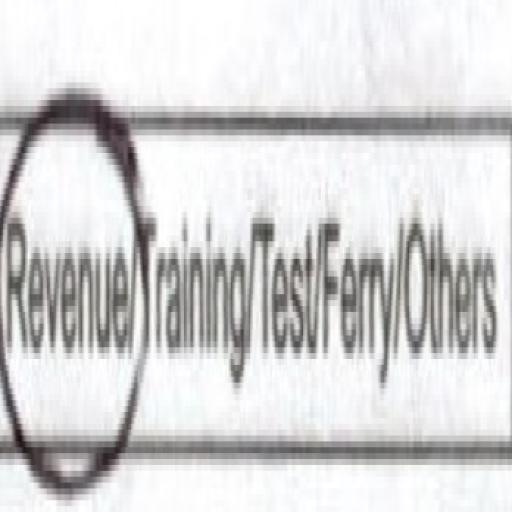check: (0, 37, 137, 512)
